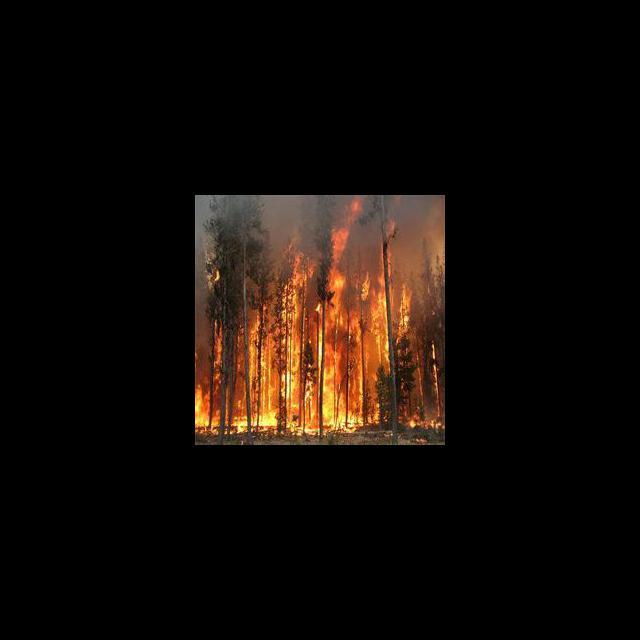Fire: (197, 196, 404, 432)
